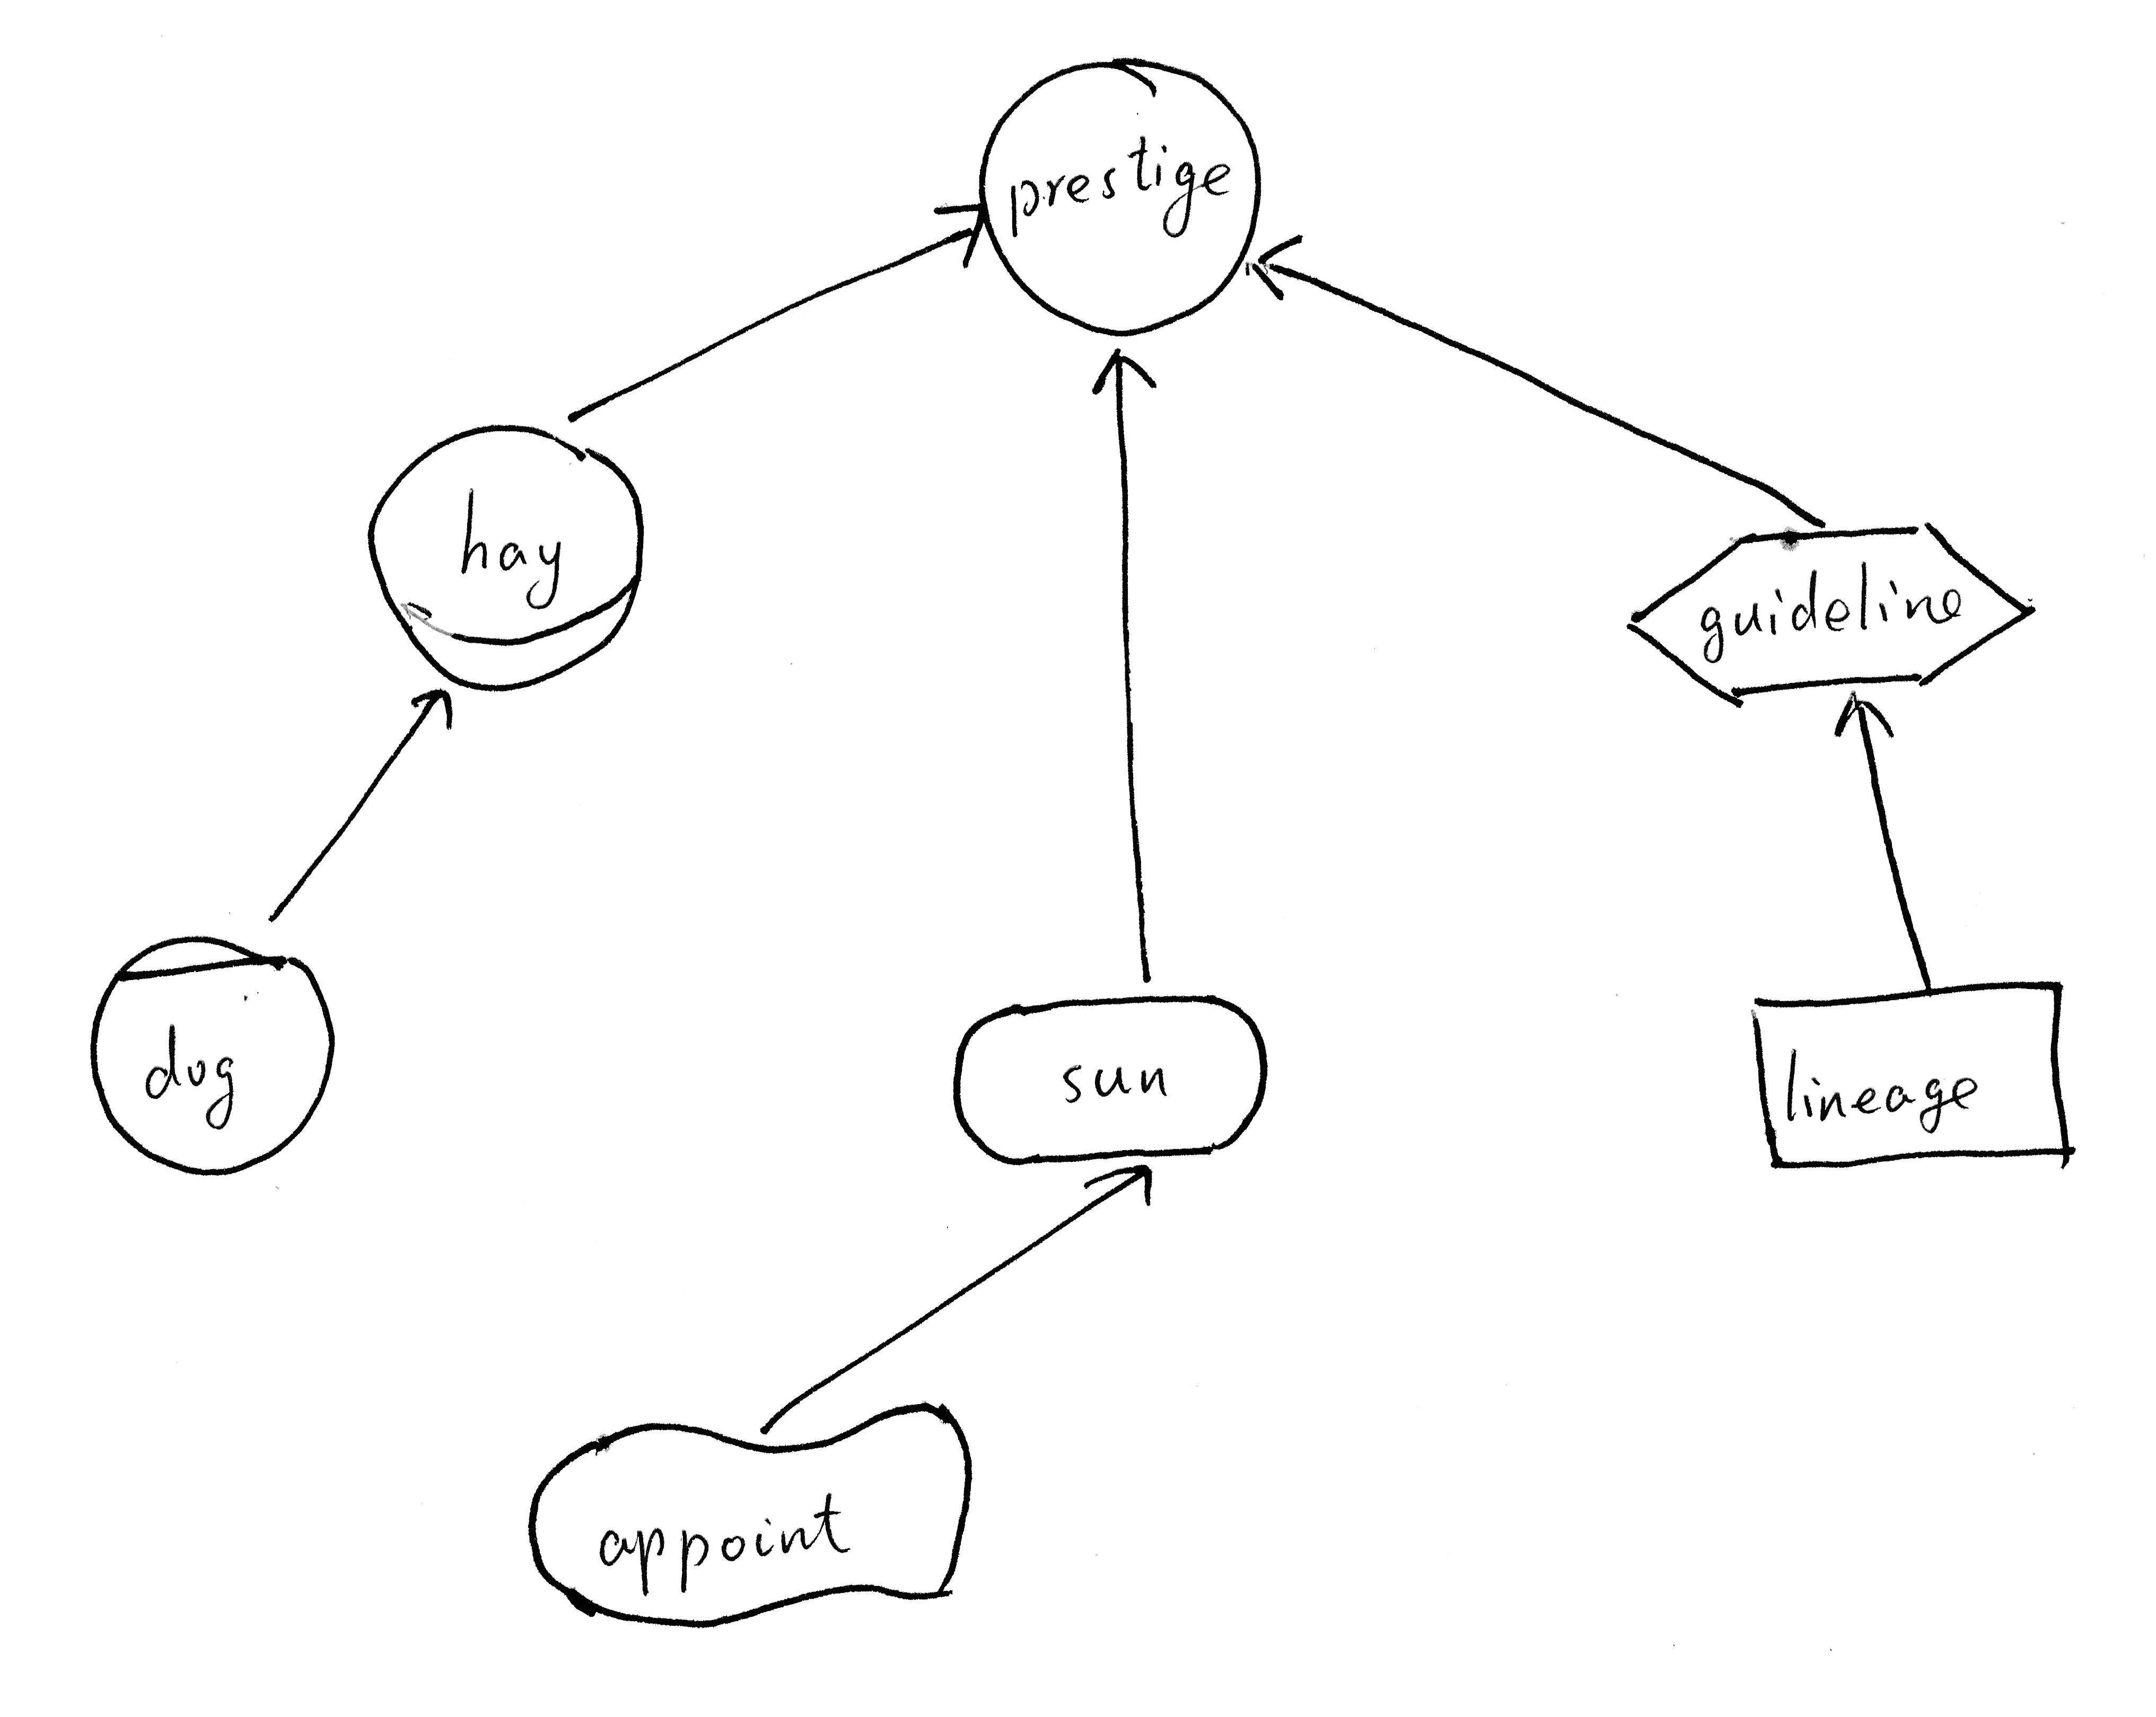actor: (962, 35, 1280, 347)
agent: (60, 916, 361, 1193)
arrow: (1226, 221, 1326, 319), (1072, 333, 1182, 417), (1067, 1151, 1168, 1225), (923, 175, 995, 279), (1821, 676, 1913, 757), (396, 664, 475, 739)
goal: (941, 974, 1286, 1184)
quality: (506, 1386, 984, 1640)
resource: (1730, 965, 2095, 1186)
role: (352, 406, 657, 706)
task: (1610, 510, 2053, 727)
